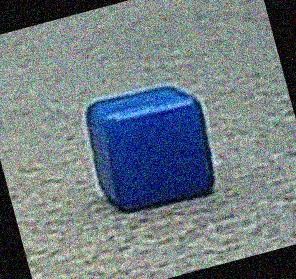blue_cube: (79, 78, 220, 215)
